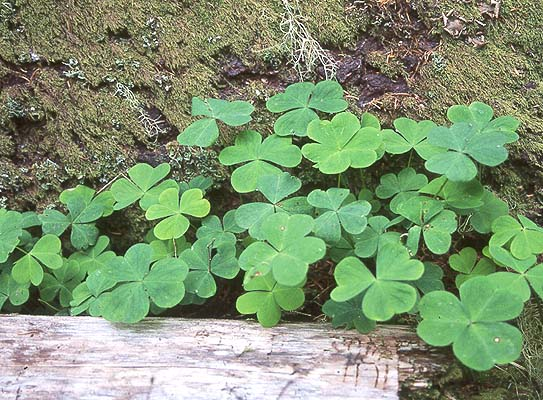oxalis: (28, 124, 543, 367)
